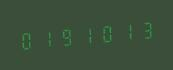nine: (57, 22, 76, 50)
one: (77, 20, 96, 49), (37, 24, 56, 52), (117, 17, 136, 45)
three: (137, 15, 156, 43)
zero: (17, 26, 36, 54), (97, 19, 116, 47)
